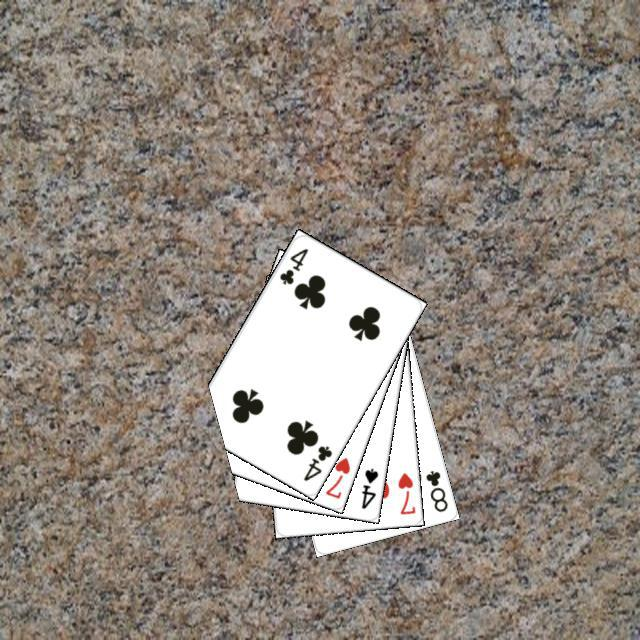4c: (298, 440, 334, 483), (274, 243, 310, 286)
4s: (356, 463, 380, 510)
7h: (320, 452, 352, 501), (393, 468, 417, 516)
8c: (421, 465, 449, 514)
